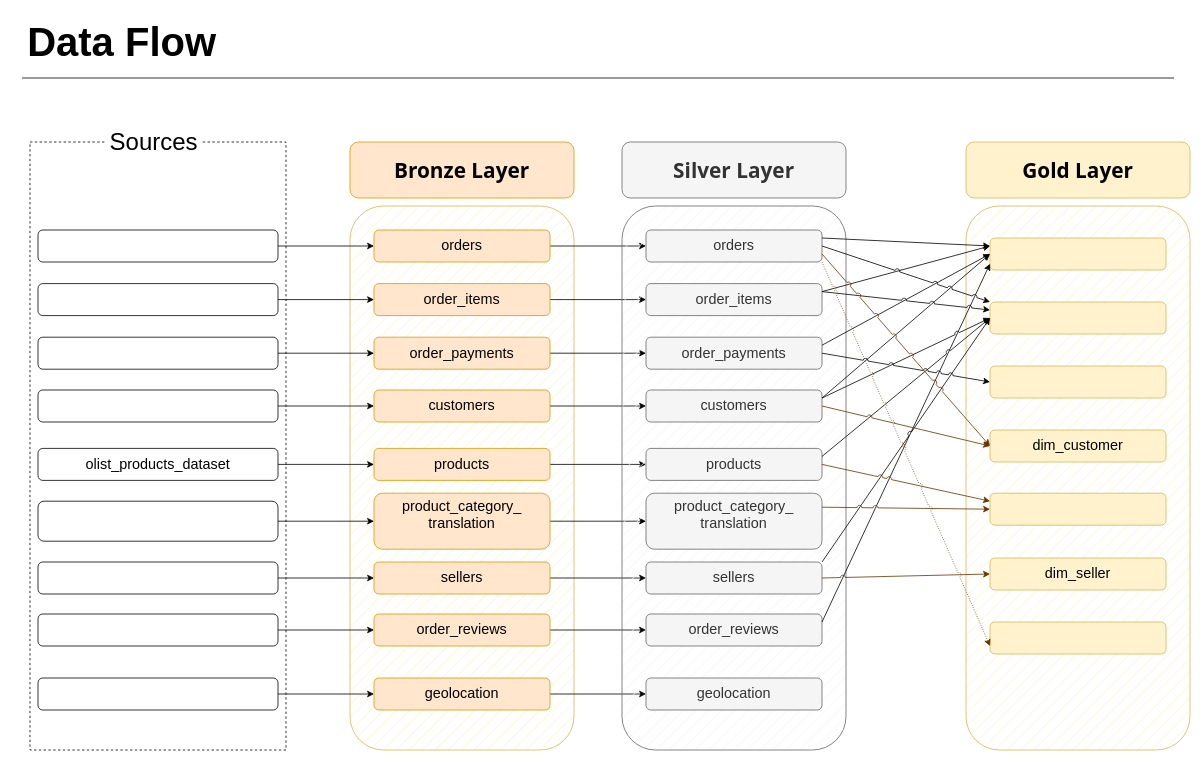
Image size: 1204x764. Some labels were removed from this diagram. Each missing label, with the centre of its shape:
"dim_date" goes at point 1077,637.
"dim_product" goes at point 1077,508.
"fact_order_items" goes at point 1077,317.
"fact_orders" goes at point 1077,253.
"fact_payments" goes at point 1077,381.
"olist_customers_dataset" goes at point 157,405.
"olist_geolocation_dataset" goes at point 157,693.
"olist_order_items_dataset" goes at point 157,299.
"olist_order_payments_dataset" goes at point 157,352.
"olist_order_reviews_dataset" goes at point 157,629.
"olist_orders_dataset" goes at point 157,245.
"olist_sellers_dataset" goes at point 157,577.
"product_category_name_ translation" goes at point 157,520.
